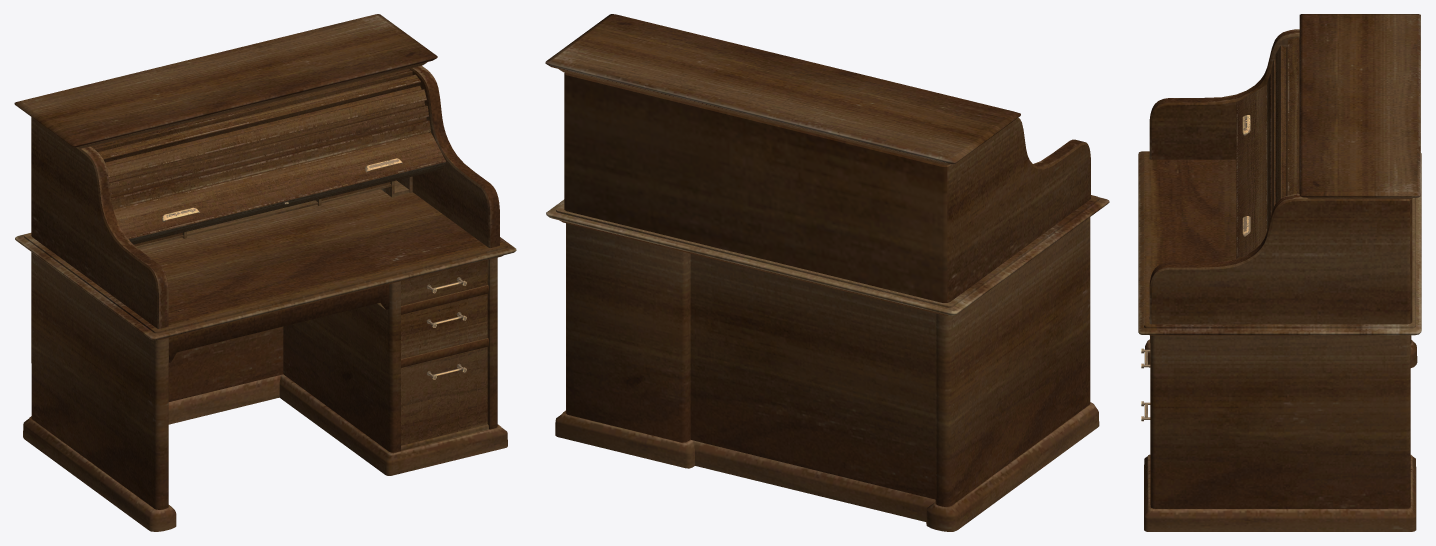
Rendered from sm30_069_oficedesk05a.fbx.
The picture shows the model from 3 angles, left to right: view 1: azimuth 30°, elevation 25°; view 2: azimuth 150°, elevation 25°; view 3: azimuth 270°, elevation 25°; orthographic projection. The views are drawn at different scales.
Visible parts, largest first — view 1: LOD_1_Group_0_Sub_2__sm30_069_OficeDesk05A_B_Mat, LOD_1_Group_0_Sub_1__sm30_069_OficeDesk05A_A_Mat; view 2: LOD_1_Group_0_Sub_2__sm30_069_OficeDesk05A_B_Mat; view 3: LOD_1_Group_0_Sub_2__sm30_069_OficeDesk05A_B_Mat, LOD_1_Group_0_Sub_1__sm30_069_OficeDesk05A_A_Mat.
Boxes of the visible parts, <box> form: LOD_1_Group_0_Sub_2__sm30_069_OficeDesk05A_B_Mat: <box>14,14,516,531</box>; LOD_1_Group_0_Sub_1__sm30_069_OficeDesk05A_A_Mat: <box>90,69,487,445</box>; LOD_1_Group_0_Sub_2__sm30_069_OficeDesk05A_B_Mat: <box>545,14,1109,531</box>; LOD_1_Group_0_Sub_2__sm30_069_OficeDesk05A_B_Mat: <box>1138,14,1421,531</box>; LOD_1_Group_0_Sub_1__sm30_069_OficeDesk05A_A_Mat: <box>1141,37,1299,421</box>.
Bounding box in the file's own units: 1.43 × 1.25 × 0.9392.
